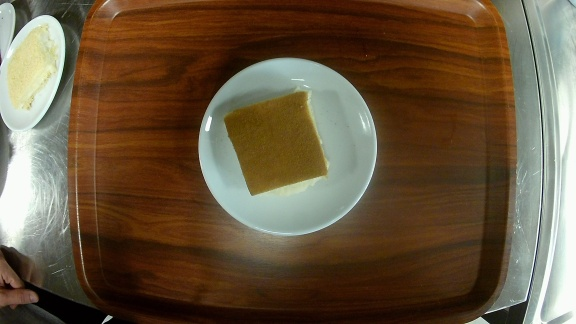tiramisu: (196, 56, 377, 236)
